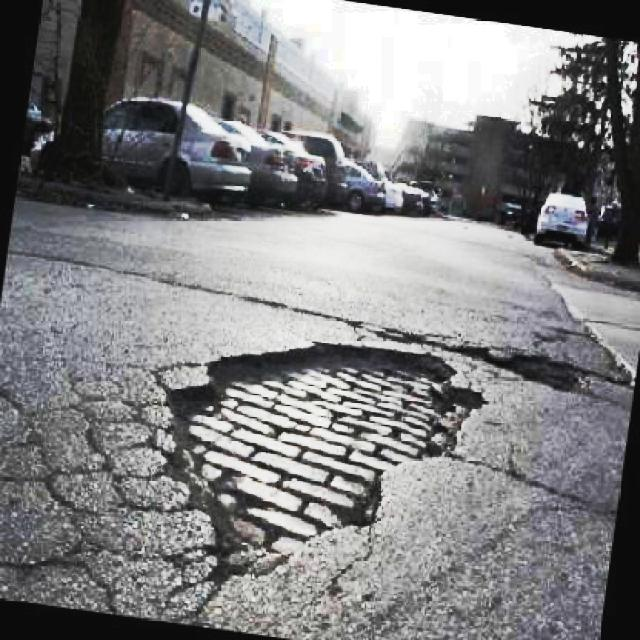pothole: (154, 335, 488, 580), (494, 351, 589, 397)
